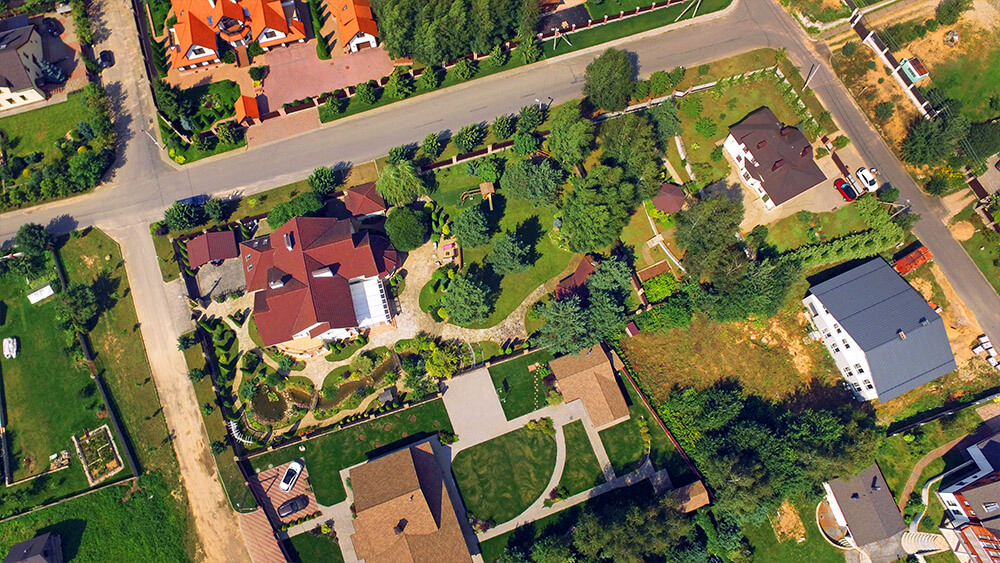build: (241, 176, 386, 349), (801, 254, 958, 407), (328, 436, 482, 563), (718, 103, 830, 208), (159, 2, 309, 73), (815, 456, 911, 550), (543, 337, 636, 433), (934, 418, 1000, 549), (1, 22, 49, 113), (332, 1, 384, 53), (1, 522, 66, 563), (652, 177, 688, 218)
